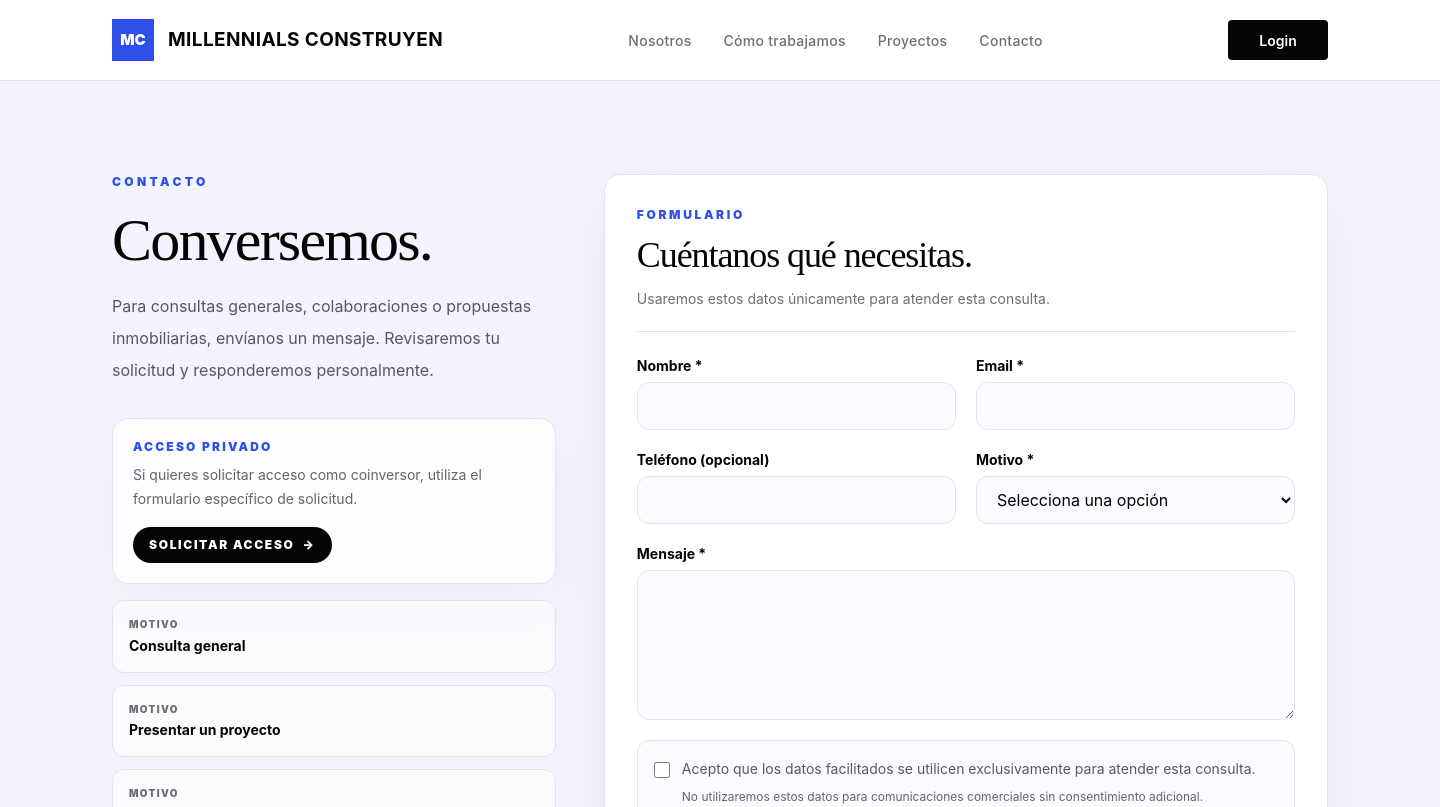
it: ContactSection form › disables button and shows "Enviando…" while submitting
(page scrolled)
In the field labelled "Nombre *": [796, 406] box [637,382,956,430], type "María García"
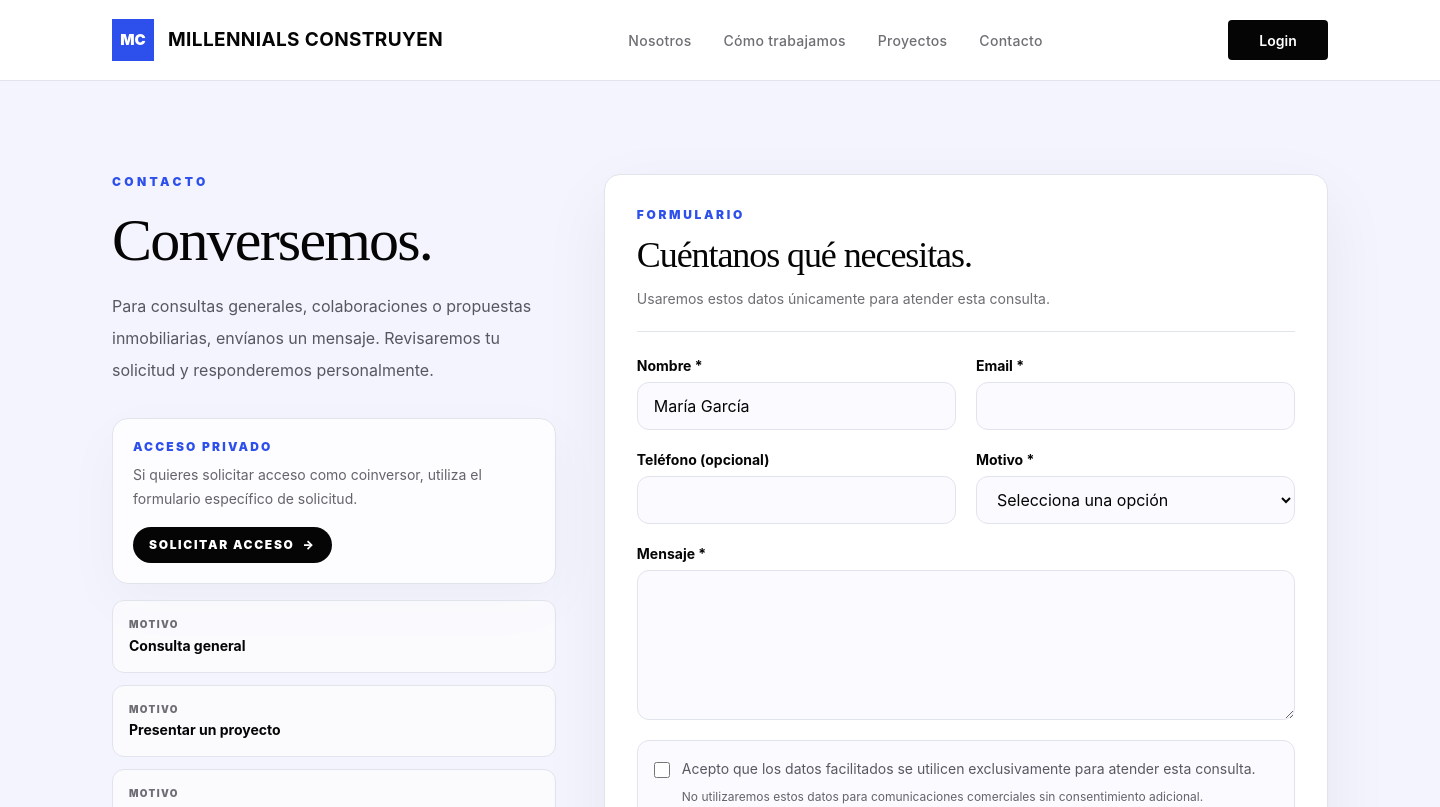
In the field labelled "Email *": [1135, 406] box [976,382,1295,430], type "maria@example.com"
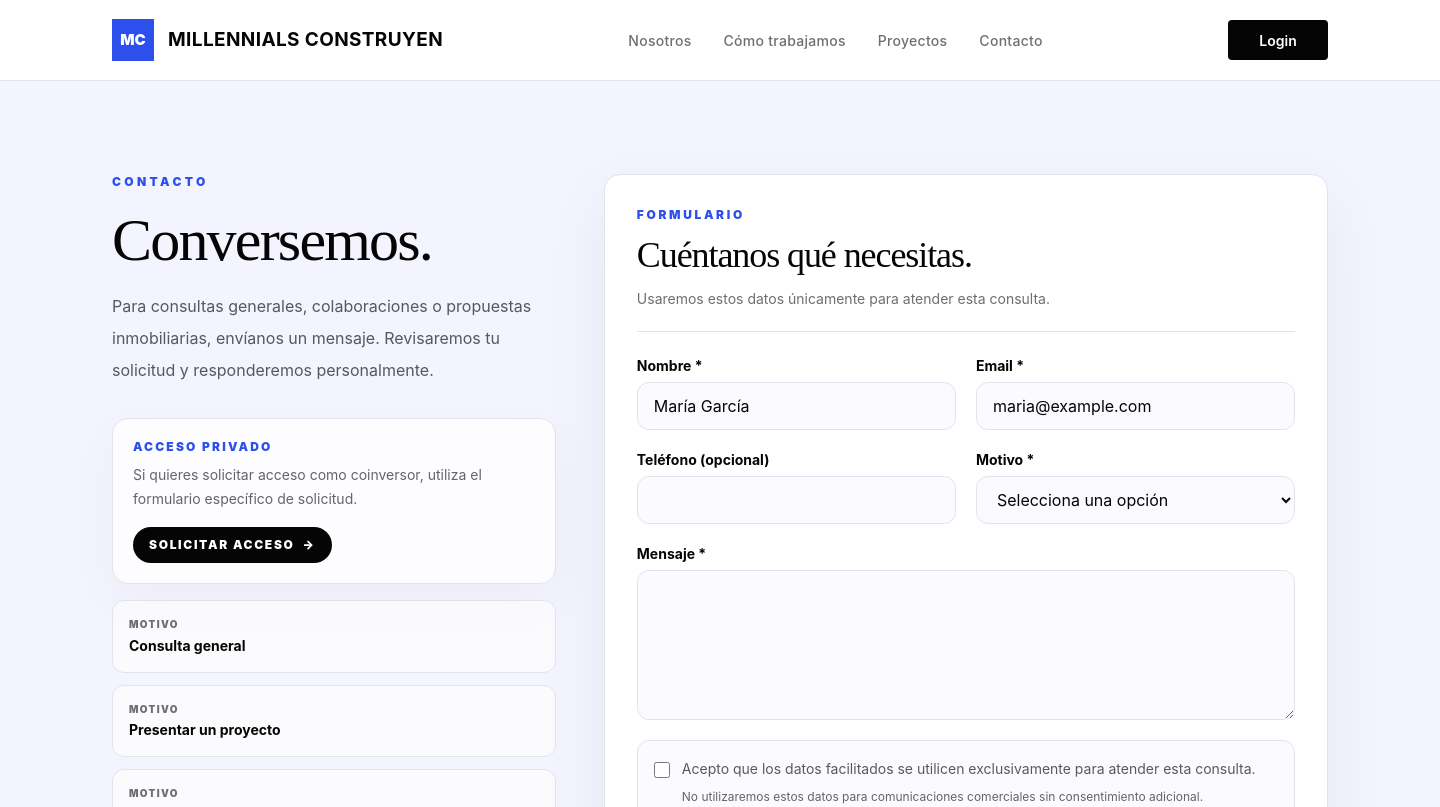
Select "Consulta general" in the dropdown labelled "Motivo *": [1135, 500] box [976,476,1295,524]
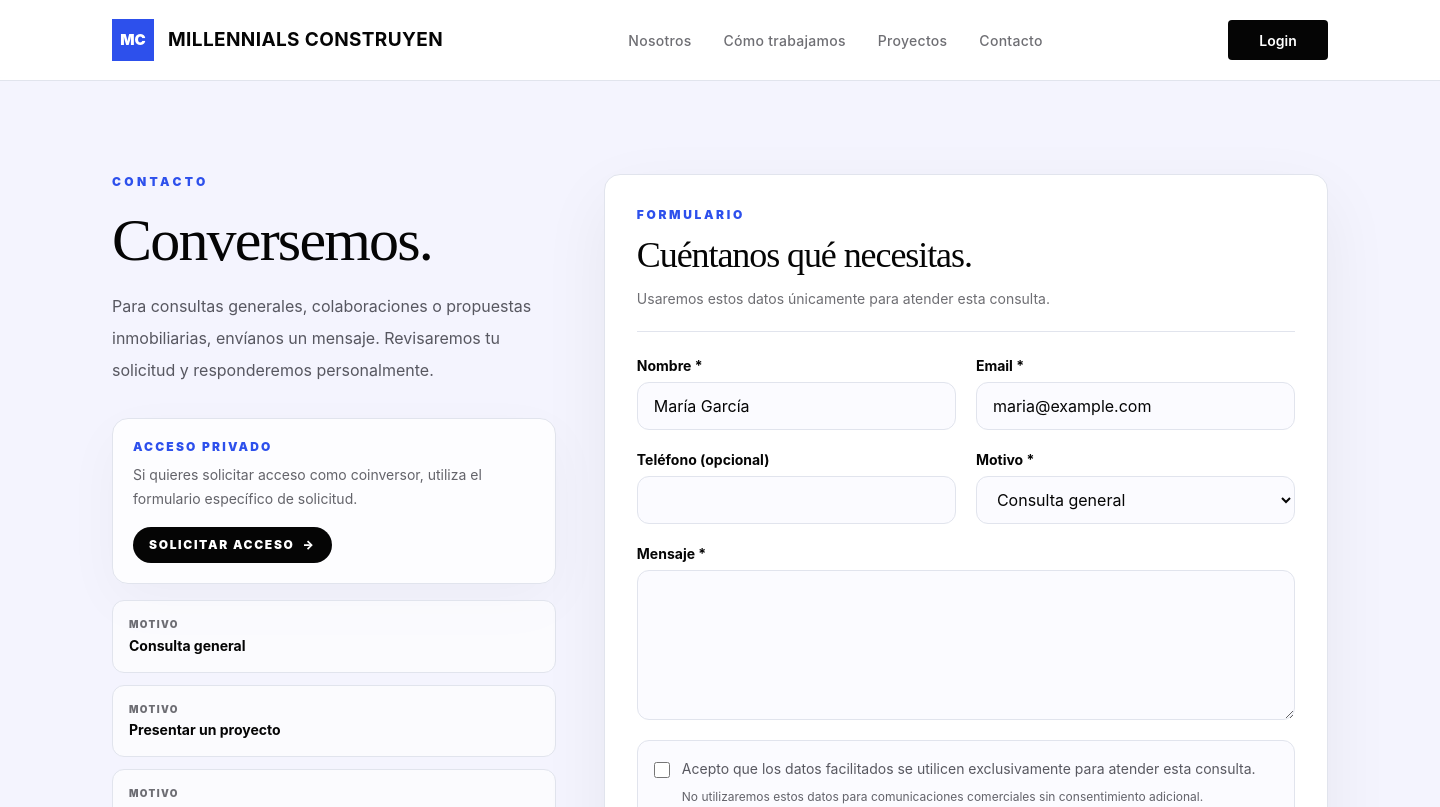
In the text box labelled "Mensaje *": [966, 645] box [637,570,1295,720], type "Me gustaría recibir más información sobre sus servicios de inversión inmobiliaria."
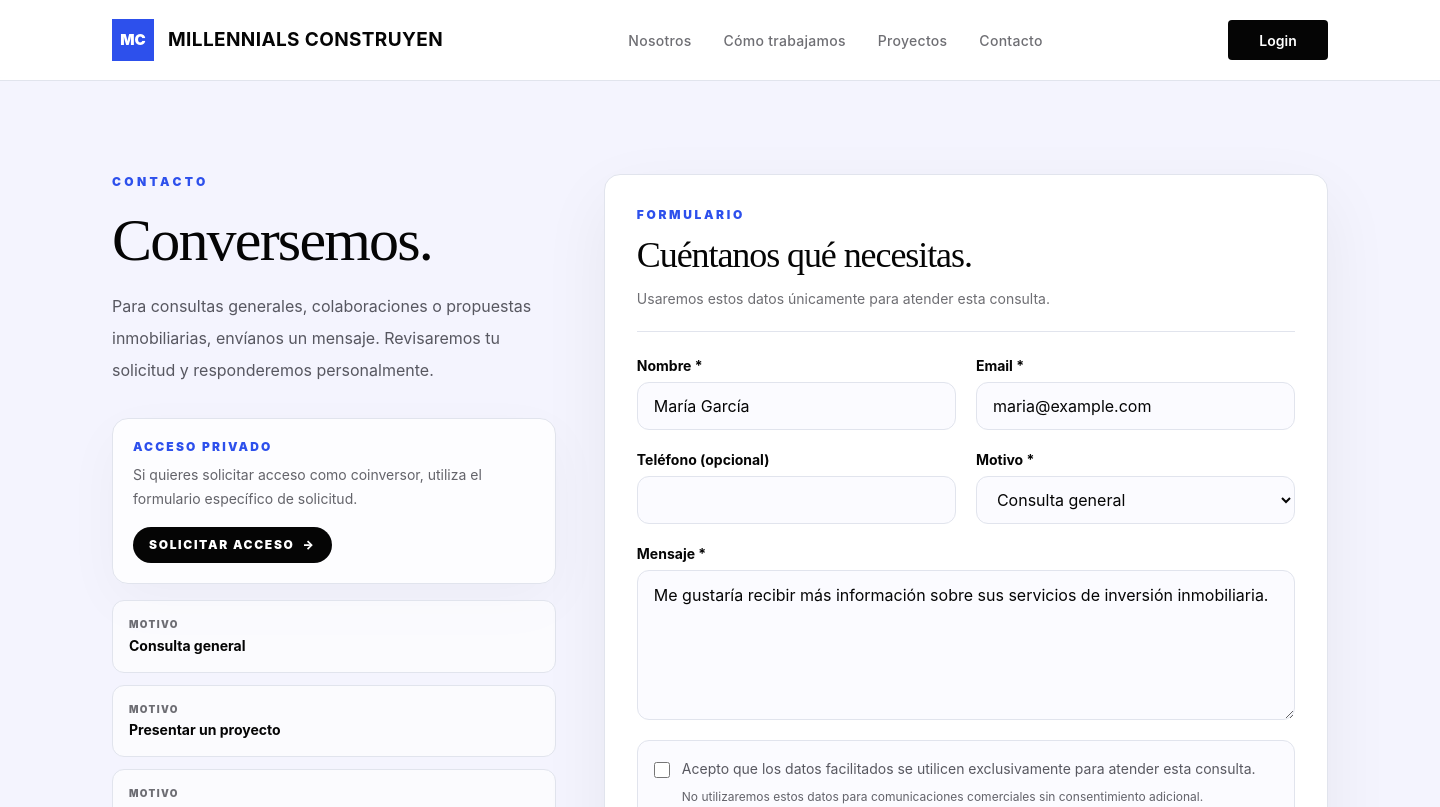
Click the checkbox labelled "Acepto que los datos facilitados": [662, 770] box [654,762,670,778]
(page scrolled)
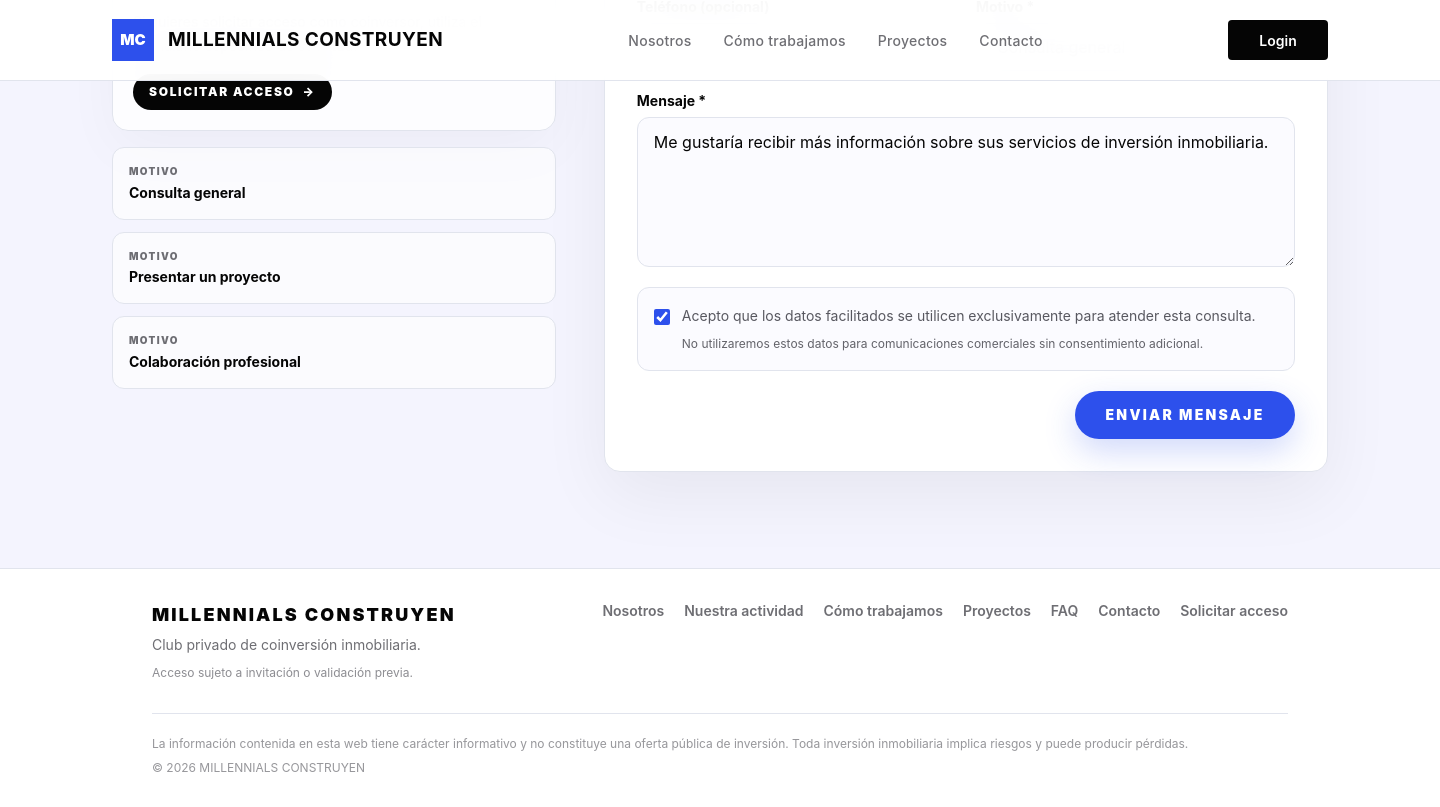
Click the button "Enviar mensaje": [1185, 415] box [1075,391,1295,439]
(page scrolled)
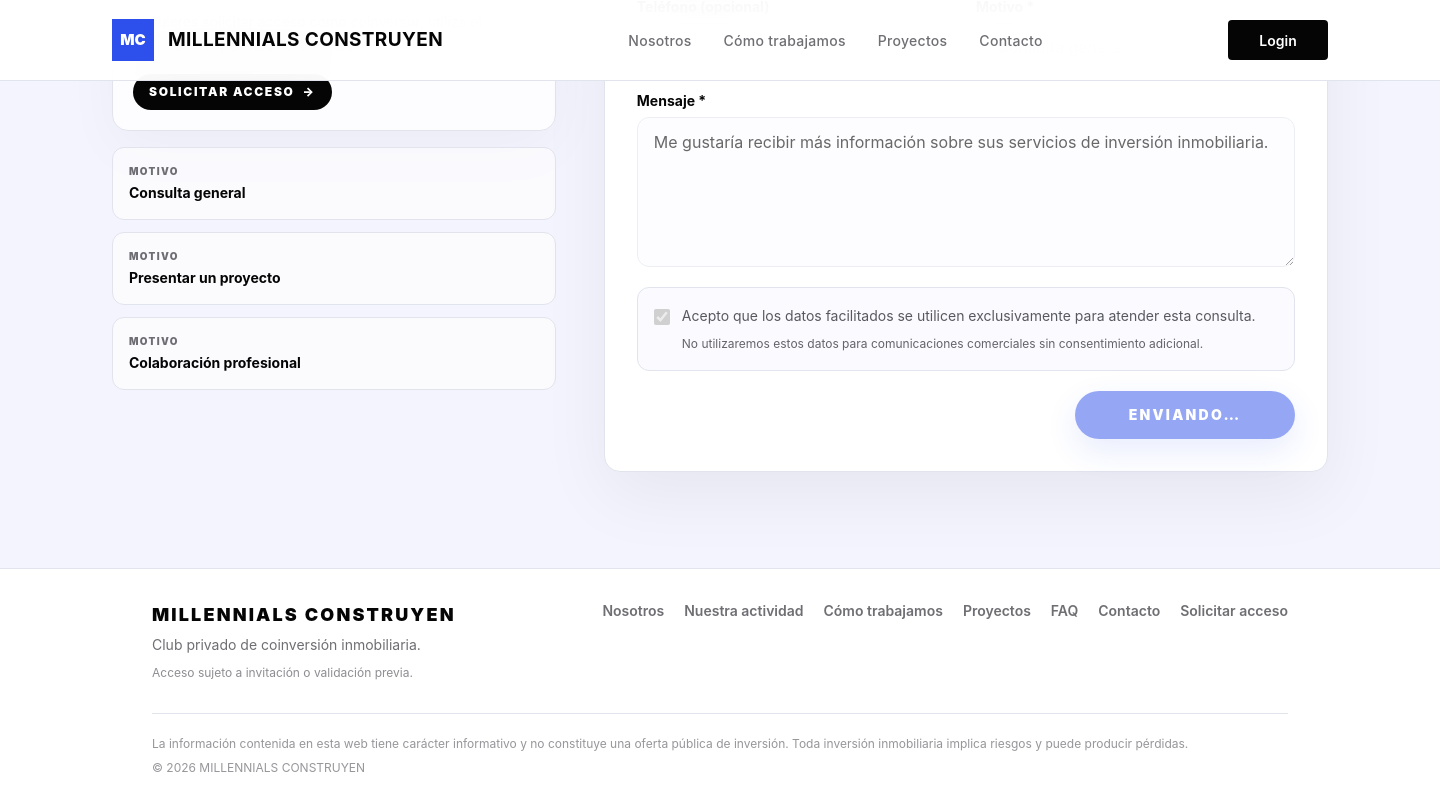
Expected: the button "Enviando…" is disabled, [1075,391,1295,439]
